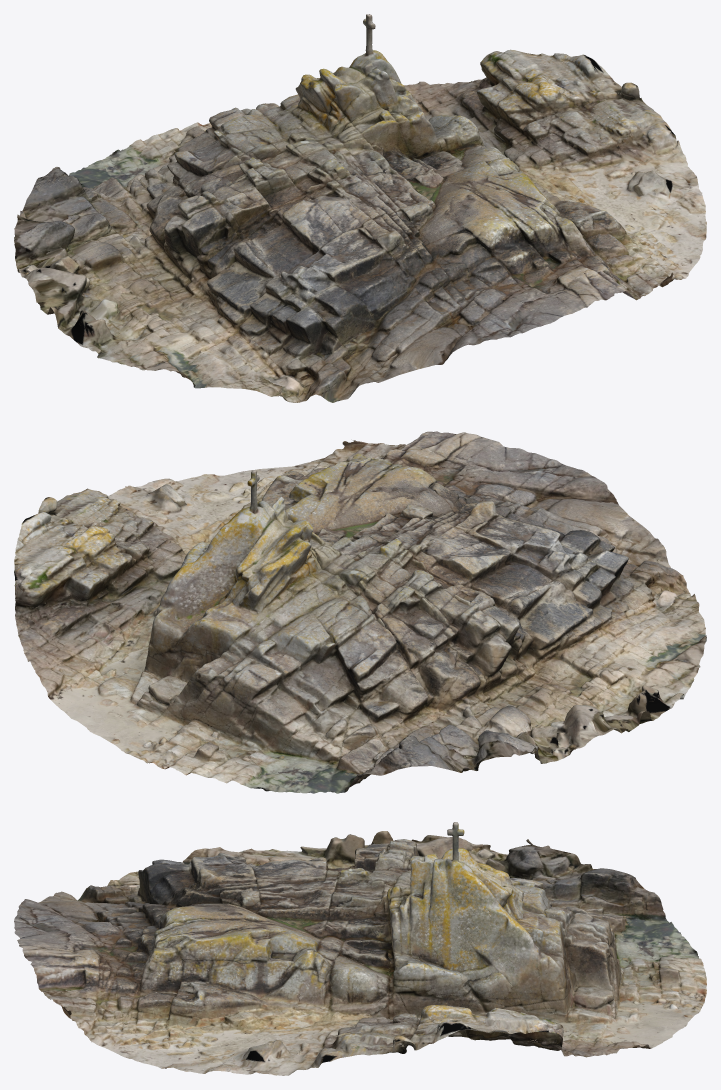
3 renders of one model, top to bottom at view 1: azimuth 30°, elevation 25°; view 2: azimuth 150°, elevation 25°; view 3: azimuth 270°, elevation 25°, orthographic. The views are drawn at different scales.
Visible parts, largest first — view 1: begargroas; view 2: begargroas; view 3: begargroas.
Boxes of the visible parts, x1,y1,x2,y2 form: begargroas: [14, 14, 706, 402]; begargroas: [14, 431, 706, 793]; begargroas: [14, 822, 706, 1075].
Bounding box in the file's own units: 20.73 × 6.77 × 21.4.
1 material, 1 textured.
